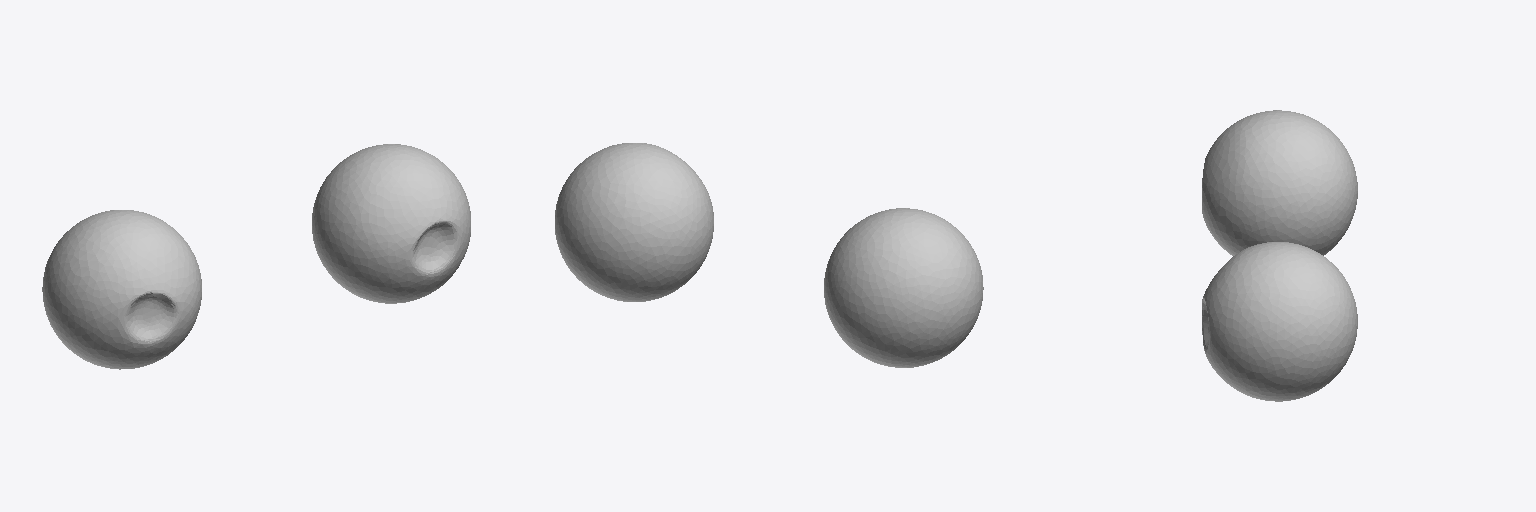
The model's file is Thug02_eyes.OBJ.
The picture shows the model from 3 angles: view 1: azimuth 30°, elevation 25°; view 2: azimuth 150°, elevation 25°; view 3: azimuth 270°, elevation 25°; orthographic projection.
Parts seen in each view (by area): view 1: Group2399; view 2: Group2399; view 3: Group2399.
Part boxes in pixels (x1,y1,x2,y2): Group2399: (42, 144, 470, 369); Group2399: (555, 143, 983, 367); Group2399: (1202, 110, 1357, 401).
Size of the model in its own units: 0.9532 by 0.3238 by 0.3155.